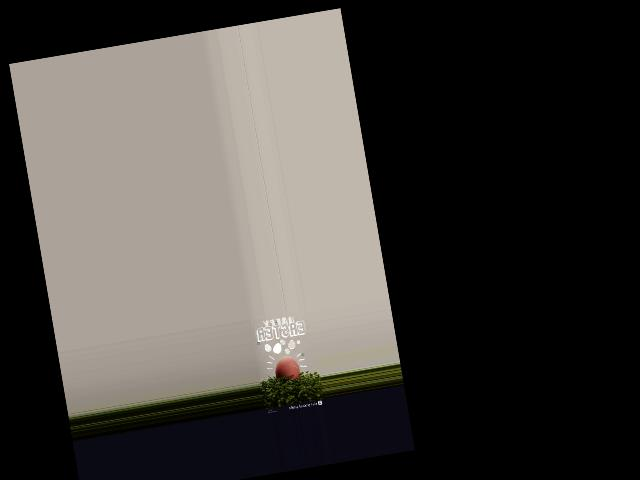egg: (272, 354, 300, 382)
